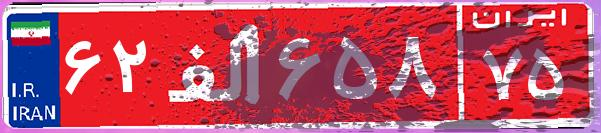2: (110, 28, 158, 105)
5: (330, 28, 385, 110), (525, 38, 570, 115)
6: (273, 28, 330, 110), (57, 26, 110, 107)
7: (475, 38, 525, 113)
8: (385, 28, 445, 110)
الف: (158, 15, 273, 115)
